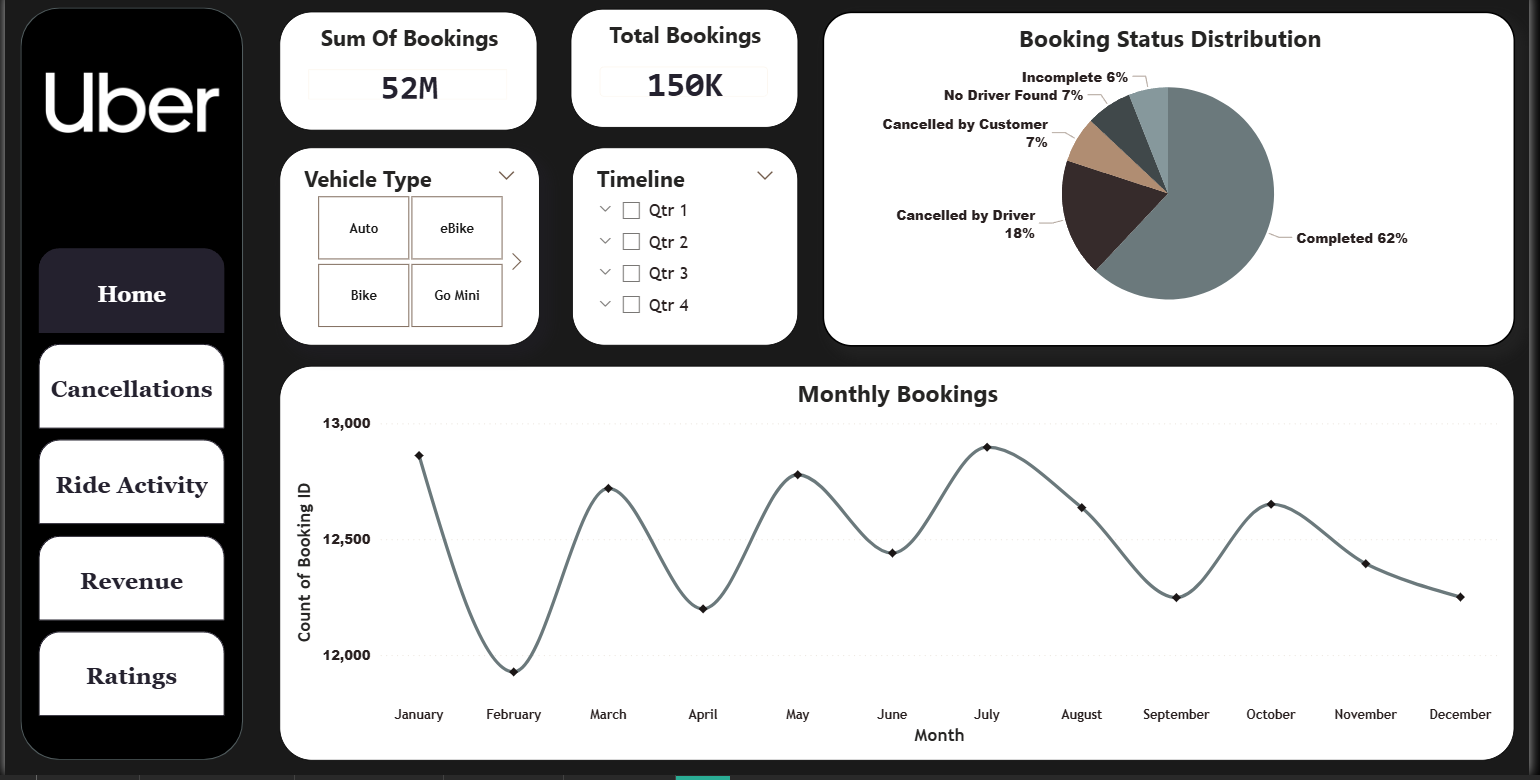

The page's visual inventory and layout, read from the dashboard file:
{"tool":"powerbi","page":{"name":"Home","canvas":[1400,720],"ordinal":0},"visuals":[{"type":"cardVisual","fields":{"Data":["Sum(ncr_ride_bookings.Booking Value)"]},"box":[252.4,14.9,237.5,109],"z":0},{"type":"cardVisual","fields":{"Data":["ncr_ride_bookings.Measure"]},"box":[519.8,14.9,209.1,109],"z":1000},{"type":"pieChart","title":"Booking Status Distribution","fields":{"Category":["ncr_ride_bookings.Booking Status"],"Y":["CountNonNull(ncr_ride_bookings.Booking ID)"]},"box":[751.3,17.9,636.3,307.7],"z":2000},{"type":"lineChart","title":"Monthly Bookings","fields":{"Y":["CountNonNull(ncr_ride_bookings.Booking ID)"],"Category":["ncr_ride_bookings.Date.Variation.Date Hierarchy.Month"]},"box":[252.4,343.5,1135.2,363],"z":3000},{"type":"slicer","fields":{"Values":["ncr_ride_bookings.Date.Variation.Date Hierarchy.Quarter","ncr_ride_bookings.Date.Variation.Date Hierarchy.Month"]},"box":[521.3,143.4,207.6,182.2],"z":4000},{"type":"shape","box":[14.4,14.4,204.6,691.8],"z":5000},{"type":"image","box":[25.9,47.6,181.6,108.1],"z":6000},{"type":"pageNavigator","box":[30.3,234.9,171.5,432.4],"z":7000},{"type":"slicer","fields":{"Values":["ncr_ride_bookings.Vehicle Type"]},"box":[252.4,143.4,239,182.2],"z":8000}]}

Visuals, with their boxes in screenshot pixels (x1, y1, x2, y2), scaled from the page's 1400x720 canvas onto the 1540x780 screenshot:
cardVisual - Sum(ncr_ride_bookings.Booking Value): [278,16,539,134]
cardVisual - ncr_ride_bookings.Measure: [572,16,802,134]
"Booking Status Distribution" pieChart: [826,19,1526,353]
"Monthly Bookings" lineChart: [278,372,1526,765]
slicer - ncr_ride_bookings.Date.Variation.Date Hierarchy.Quarter x ncr_ride_bookings.Date.Variation.Date Hierarchy.Month: [573,155,802,353]
shape: [16,16,241,765]
image: [28,52,228,169]
pageNavigator: [33,254,222,723]
slicer - ncr_ride_bookings.Vehicle Type: [278,155,541,353]
